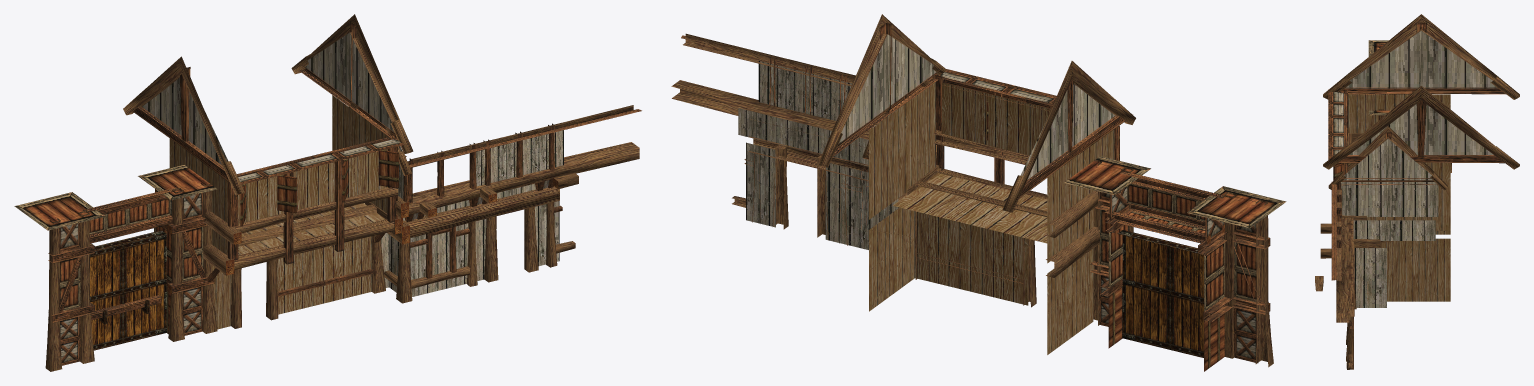
Rendered from LAKETOWN_EXTERIOR_PS_LT_GATEHOUSE9947__GX.fbx.
3 views of the same model, side by side, from view 1: azimuth 30°, elevation 25°; view 2: azimuth 150°, elevation 25°; view 3: azimuth 270°, elevation 25° (orthographic). The views are drawn at different scales.
Visible parts, largest first — view 1: LAKETOWN_EXTERIOR_PS_LT_GATEHOUSE9947__GX; view 2: LAKETOWN_EXTERIOR_PS_LT_GATEHOUSE9947__GX; view 3: LAKETOWN_EXTERIOR_PS_LT_GATEHOUSE9947__GX.
Boxes of the visible parts, left/top/right/bottom form: LAKETOWN_EXTERIOR_PS_LT_GATEHOUSE9947__GX: left=14, top=14, right=641, bottom=371; LAKETOWN_EXTERIOR_PS_LT_GATEHOUSE9947__GX: left=671, top=14, right=1286, bottom=371; LAKETOWN_EXTERIOR_PS_LT_GATEHOUSE9947__GX: left=1315, top=14, right=1519, bottom=369.
Bounding box in the file's own units: 213758 × 92040 × 78081.
Materials: 15 (15 with a texture image).
